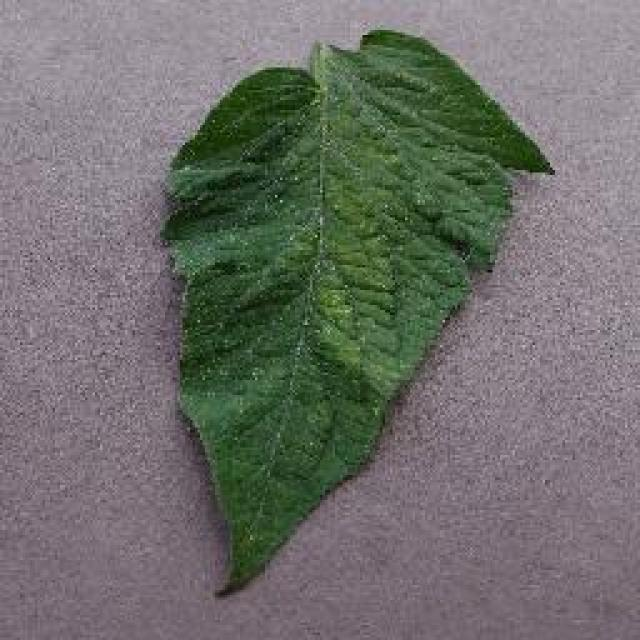Tomato___Spider_mites Two-spotted_spider_mite: (162, 30, 548, 592)
